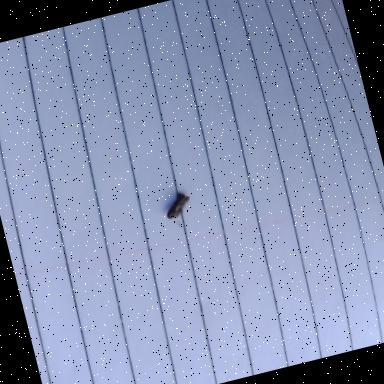pbw: (162, 192, 194, 220)
